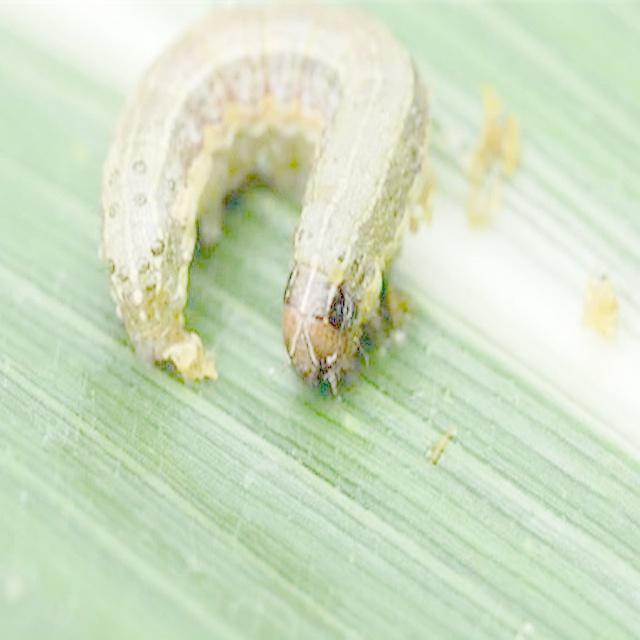gusano_cogollero: (91, 0, 438, 399)
